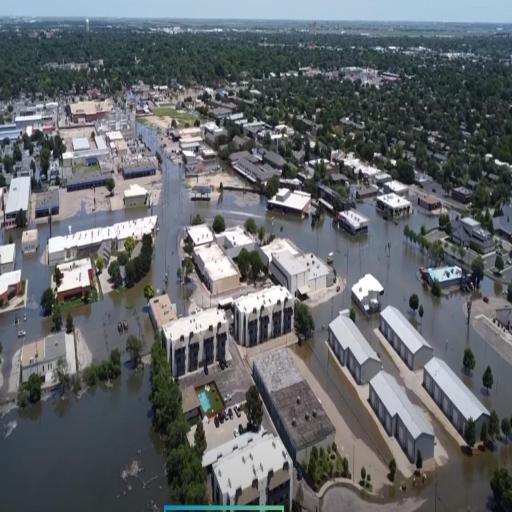flood: (287, 200, 512, 418), (0, 367, 170, 512), (152, 158, 287, 316), (310, 290, 393, 466), (292, 343, 388, 468), (61, 263, 157, 363), (426, 407, 512, 512), (357, 310, 431, 415), (0, 221, 56, 342), (322, 467, 435, 512), (51, 202, 150, 236), (0, 306, 28, 402), (79, 315, 109, 366), (401, 202, 439, 234), (465, 275, 508, 302), (134, 118, 160, 153), (34, 223, 49, 262)
house: (252, 343, 338, 476), (210, 431, 293, 512), (368, 373, 436, 465), (424, 358, 493, 448), (163, 306, 235, 380), (234, 282, 296, 351), (328, 313, 384, 387), (16, 328, 80, 392), (272, 242, 337, 299), (380, 305, 434, 372), (192, 243, 242, 299), (452, 209, 492, 257), (268, 182, 312, 222), (423, 260, 466, 300), (232, 145, 269, 190), (350, 271, 383, 321), (54, 261, 99, 297), (4, 174, 31, 232), (377, 186, 412, 223), (65, 168, 112, 194), (66, 101, 108, 126), (0, 268, 24, 310), (34, 187, 60, 219), (123, 180, 148, 210), (121, 159, 157, 179), (418, 189, 442, 217), (19, 228, 41, 258), (187, 184, 212, 204), (0, 244, 15, 272)
